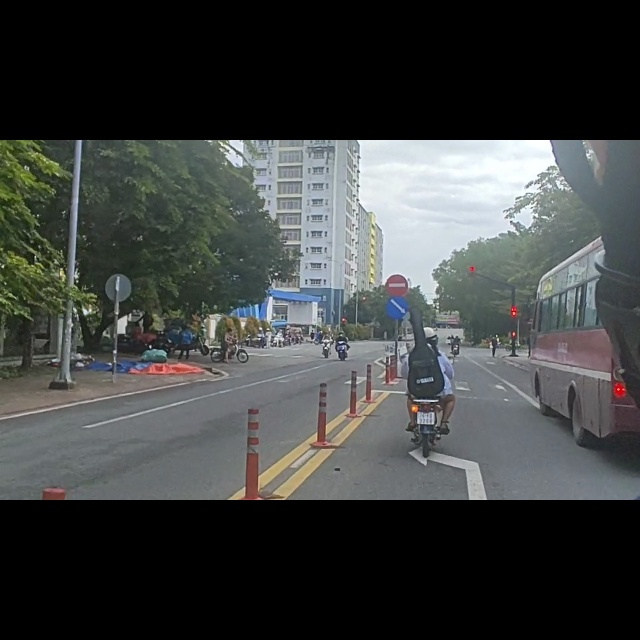bien_hieu_lenh: (386, 238, 412, 277), (388, 281, 409, 316)
